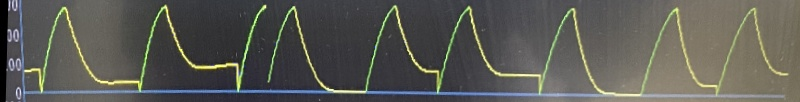leakage: (34, 0, 238, 98), (366, 1, 539, 99)
normal_volume: (243, 1, 376, 96), (539, 2, 653, 102)
